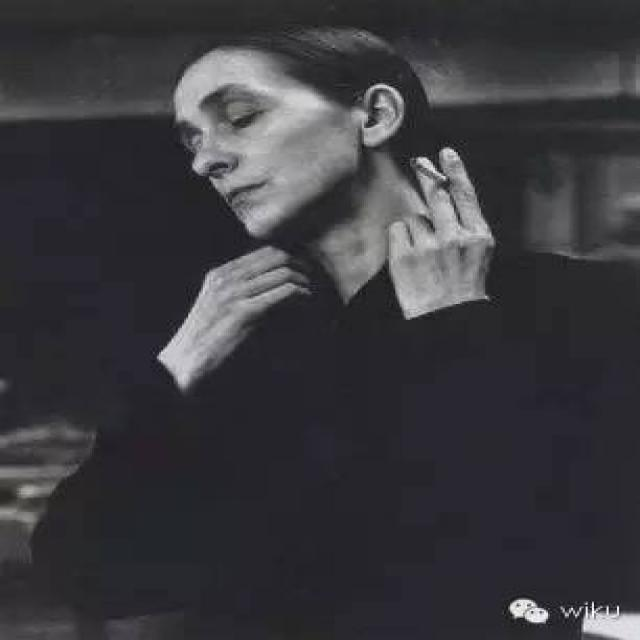cigarette: (407, 155, 452, 187)
